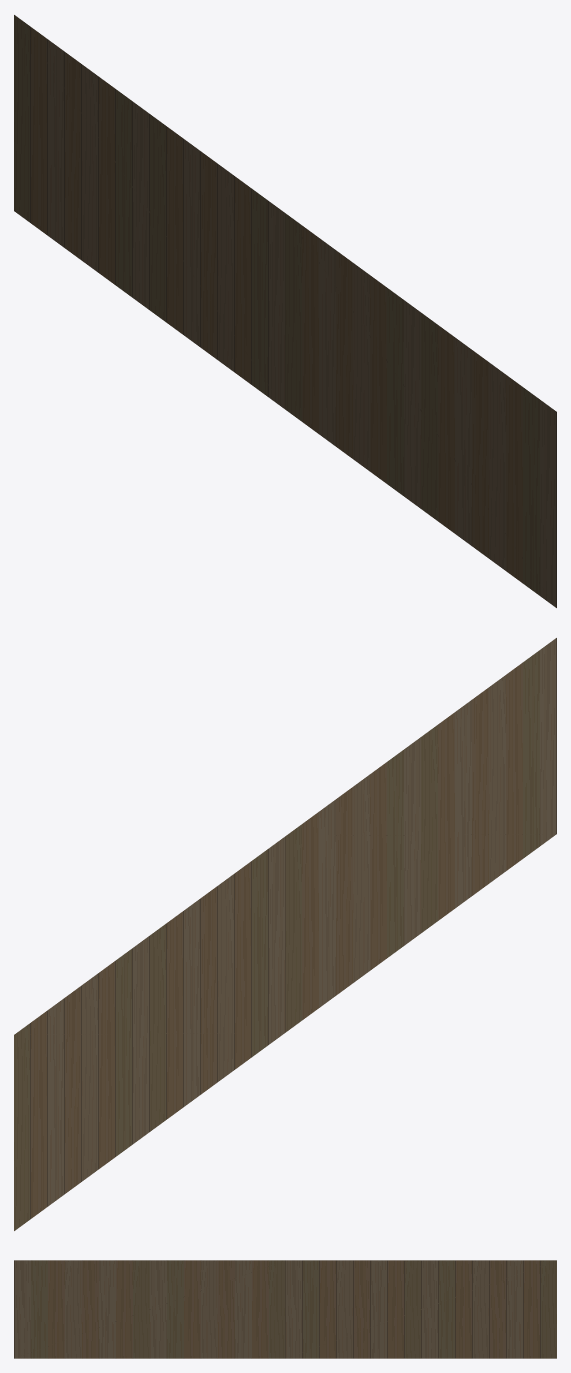
File: kd_stage_135ded_4_9_bounded_piece_2.glb
The picture shows the model from 3 angles, top to bottom: view 1: azimuth 30°, elevation 25°; view 2: azimuth 150°, elevation 25°; view 3: azimuth 270°, elevation 25°; orthographic projection. The views are drawn at different scales.
Parts seen in each view (by area): view 1: kd_stage_135ded_4_9_bounded_piece_2; view 2: kd_stage_135ded_4_9_bounded_piece_2; view 3: kd_stage_135ded_4_9_bounded_piece_2.
Part boxes in pixels (x1,y1,x2,y2): kd_stage_135ded_4_9_bounded_piece_2: [14, 15, 556, 607]; kd_stage_135ded_4_9_bounded_piece_2: [14, 638, 556, 1230]; kd_stage_135ded_4_9_bounded_piece_2: [14, 1260, 556, 1358].
Size of the model in its own units: 9.54e-07 by 0.34 by 1.7.
1 material, 1 textured.
